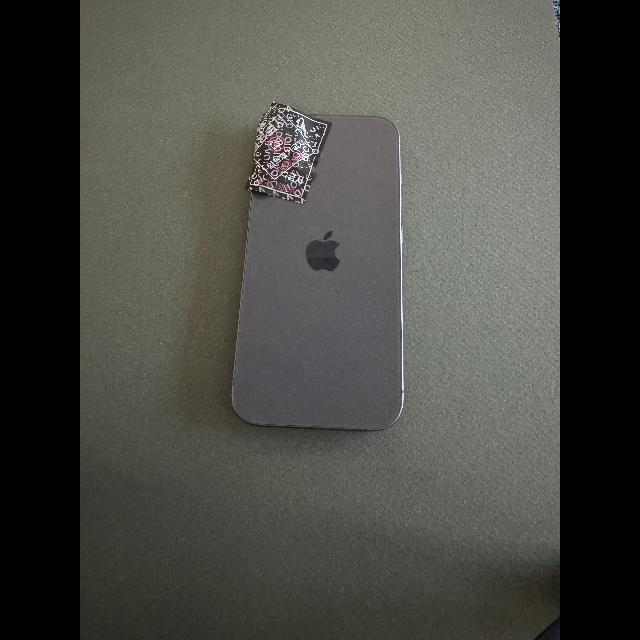phone: (231, 114, 404, 431)
sticker: (245, 101, 333, 204), (253, 101, 320, 185)
